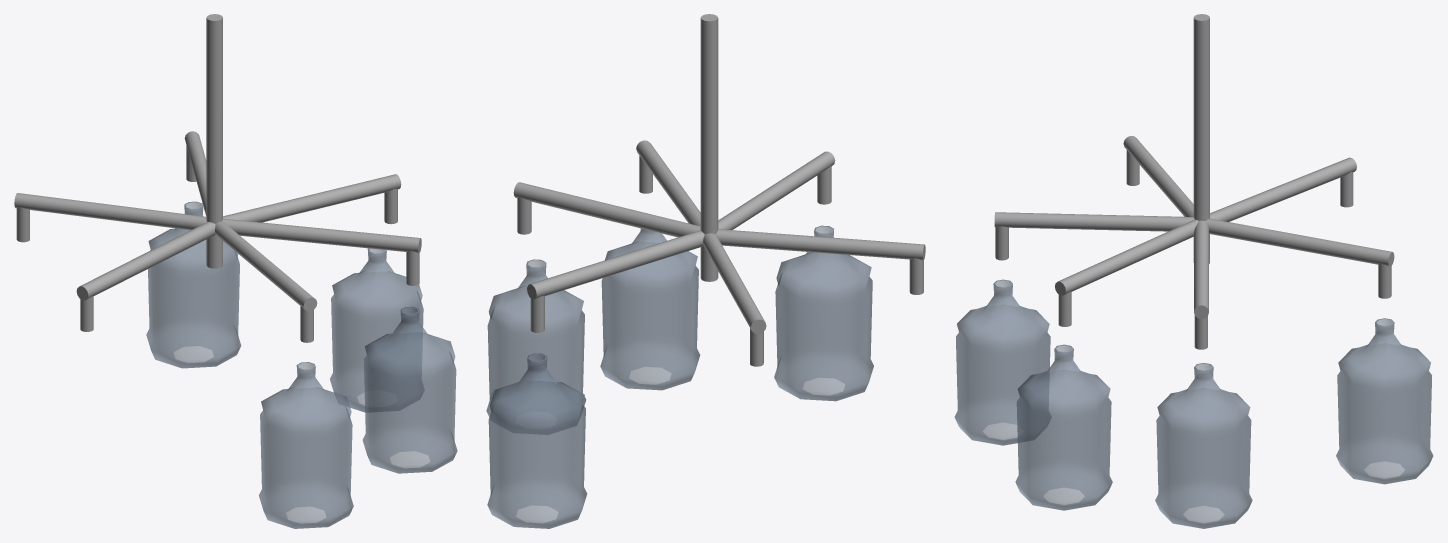
The model's file is water_can.fbx.
3 renders of one model, left to right at view 1: azimuth 30°, elevation 25°; view 2: azimuth 150°, elevation 25°; view 3: azimuth 270°, elevation 25°, orthographic. The views are drawn at different scales.
Parts seen in each view (by area): view 1: water_can2, water_can, water_can3, water_can4, pCylinder1, pCylinder9, pCylinder6, pCylinder4, pCylinder7, pCylinder8, pCylinder5; view 2: water_can4, water_can, water_can2, water_can3, pCylinder1, pCylinder7, pCylinder5, pCylinder4, pCylinder8, pCylinder6, pCylinder9; view 3: water_can4, water_can2, water_can3, water_can, pCylinder1, pCylinder8, pCylinder5, pCylinder9, pCylinder6, pCylinder7, pCylinder4.
Part boxes in pixels (<box>): water_can2: <box>362,306,457,473</box>; water_can: <box>259,362,353,528</box>; water_can3: <box>330,248,423,412</box>; water_can4: <box>146,201,241,368</box>; pCylinder1: <box>206,14,222,268</box>; pCylinder9: <box>222,219,421,285</box>; pCylinder6: <box>14,193,206,242</box>; pCylinder4: <box>223,174,401,224</box>; pCylinder7: <box>76,221,215,331</box>; pCylinder8: <box>215,221,317,342</box>; pCylinder5: <box>184,131,206,215</box>; water_can4: <box>487,353,587,528</box>; water_can: <box>774,225,873,401</box>; water_can2: <box>600,228,700,390</box>; water_can3: <box>486,259,586,434</box>; pCylinder1: <box>700,14,718,281</box>; pCylinder7: <box>715,229,925,294</box>; pCylinder5: <box>527,230,704,332</box>; pCylinder4: <box>513,182,700,237</box>; pCylinder8: <box>718,151,835,229</box>; pCylinder6: <box>703,233,766,366</box>; pCylinder9: <box>636,140,700,226</box>; water_can4: <box>1336,318,1433,484</box>; water_can2: <box>1015,344,1112,510</box>; water_can3: <box>1155,363,1252,528</box>; water_can: <box>954,279,1051,445</box>; pCylinder1: <box>1193,14,1209,263</box>; pCylinder8: <box>994,212,1194,260</box>; pCylinder5: <box>1205,218,1394,298</box>; pCylinder9: <box>1055,219,1198,326</box>; pCylinder6: <box>1210,157,1356,221</box>; pCylinder7: <box>1123,136,1193,216</box>; pCylinder4: <box>1194,220,1208,349</box>.
Size of the model in its own units: 201 by 216 by 224.
